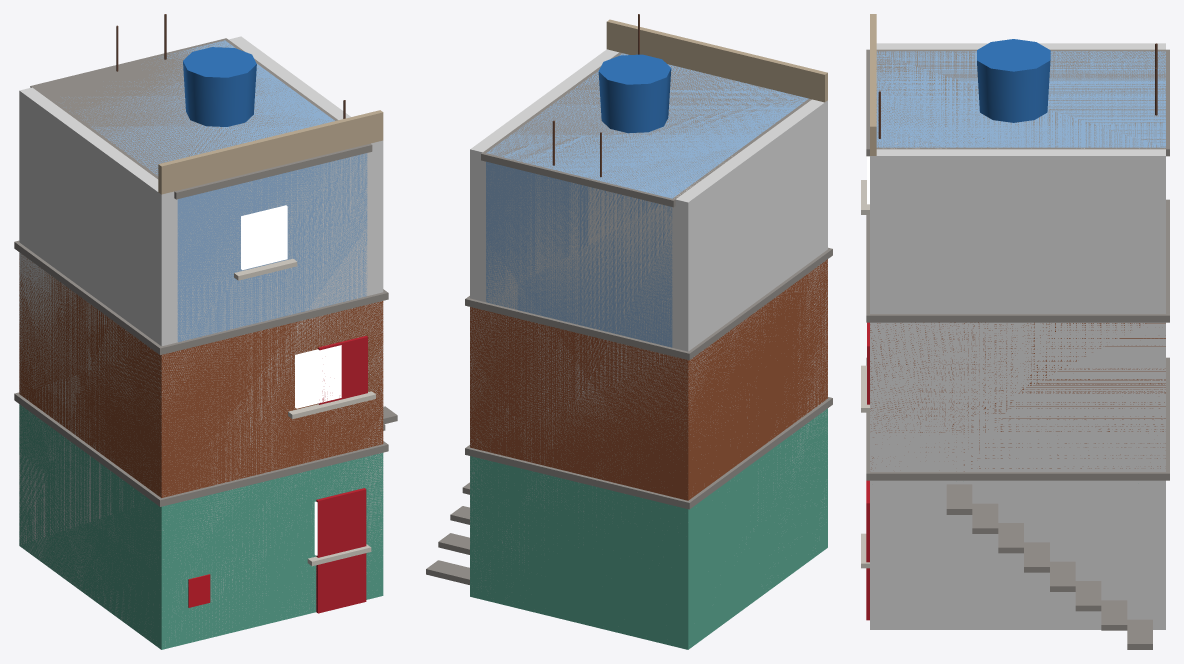
The model's file is casa_favela_4.glb.
3 views of the same model, side by side, from view 1: azimuth 30°, elevation 25°; view 2: azimuth 150°, elevation 25°; view 3: azimuth 270°, elevation 25° (orthographic). The views are drawn at different scales.
Parts seen in each view (by area): view 1: casa_favela_4_Malla, COL_0; view 2: casa_favela_4_Malla, COL_0; view 3: COL_0, casa_favela_4_Malla.
Boxes of the visible parts, x1,y1,x2,y2 form: casa_favela_4_Malla: [14, 14, 397, 649]; COL_0: [19, 36, 383, 646]; casa_favela_4_Malla: [426, 14, 832, 649]; COL_0: [470, 49, 827, 588]; COL_0: [870, 43, 1165, 629]; casa_favela_4_Malla: [861, 14, 1169, 649].
Size of the model in its own units: 5.14 by 9 by 4.78.
